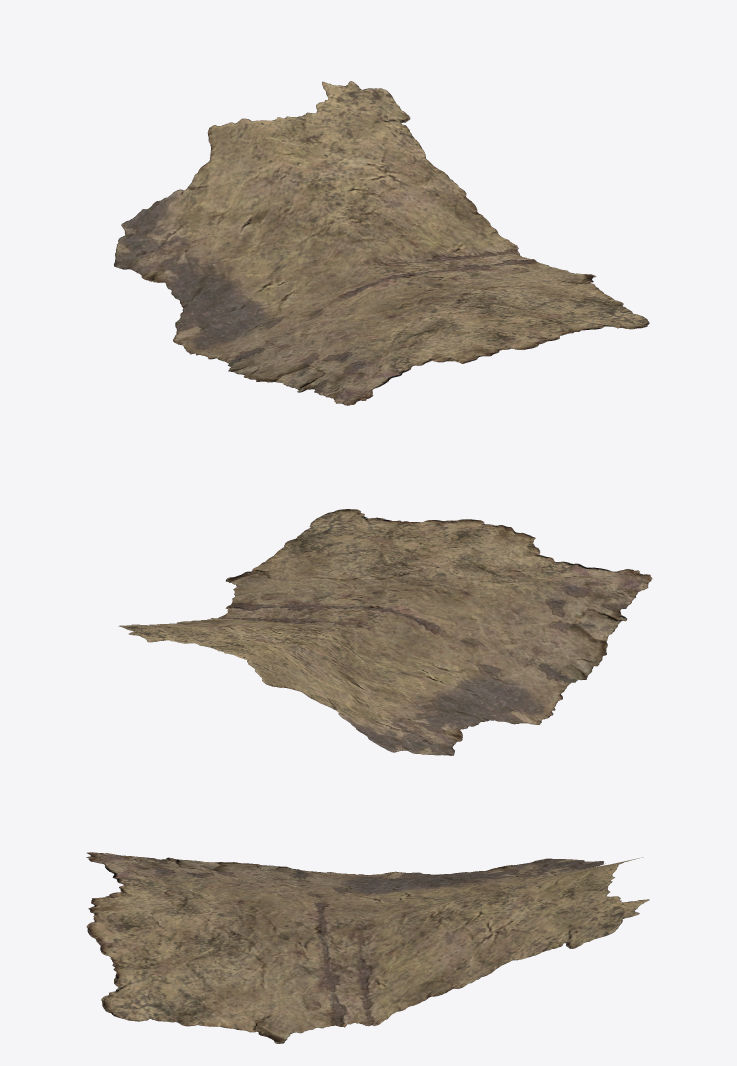
Rendered from paperTrash03.FBX.
The picture shows the model from 3 angles, top to bottom: view 1: azimuth 30°, elevation 25°; view 2: azimuth 150°, elevation 25°; view 3: azimuth 270°, elevation 25°; orthographic projection. The views are drawn at different scales.
Visible parts, largest first — view 1: SM_PaperTrash03; view 2: SM_PaperTrash03; view 3: SM_PaperTrash03.
Part boxes in pixels (bbox=[...]): SM_PaperTrash03: bbox=[114, 81, 649, 405]; SM_PaperTrash03: bbox=[118, 509, 652, 755]; SM_PaperTrash03: bbox=[86, 852, 649, 1043].
Size of the model in its own units: 18.53 by 6.01 by 28.88.
1 material, 1 textured.
